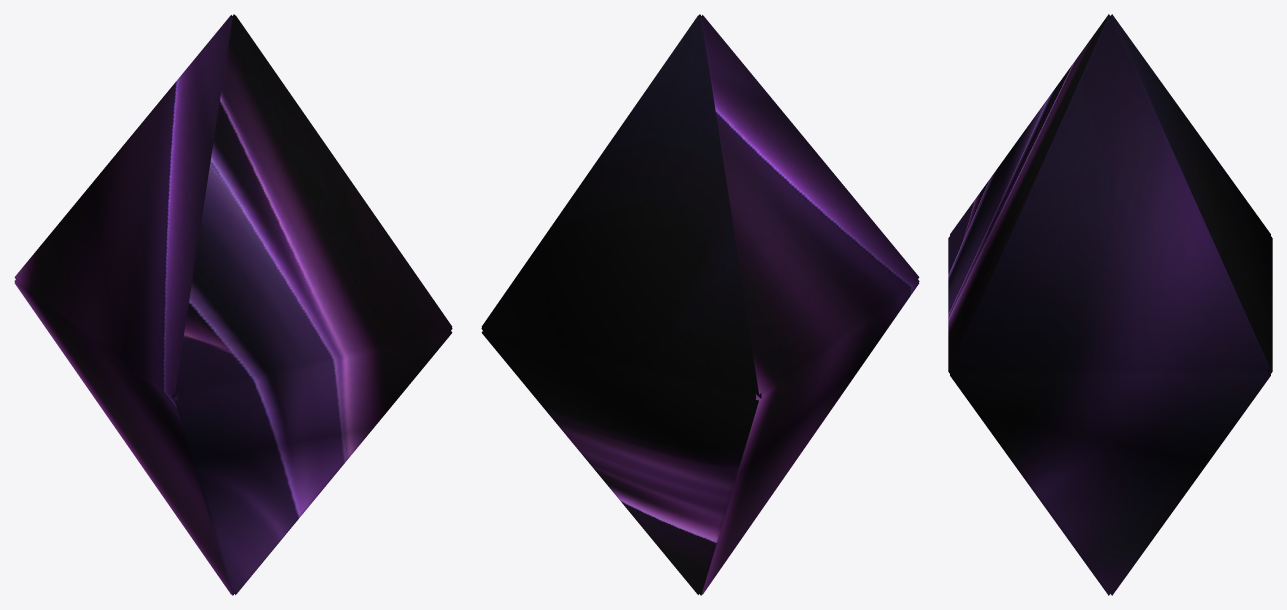
The model's file is Shard.glb.
3 views of the same model, side by side, from view 1: azimuth 30°, elevation 25°; view 2: azimuth 150°, elevation 25°; view 3: azimuth 270°, elevation 25° (orthographic).
Visible parts, largest first — view 1: Octahedron_Main; view 2: Octahedron_Main; view 3: Octahedron_Main.
Boxes of the visible parts, left/top/right/bottom form: Octahedron_Main: left=14, top=14, right=452, bottom=595; Octahedron_Main: left=481, top=14, right=919, bottom=595; Octahedron_Main: left=948, top=14, right=1272, bottom=595.
Bounding box in the file's own units: 1.2 × 2.38 × 1.2.
1 material, 1 textured.
